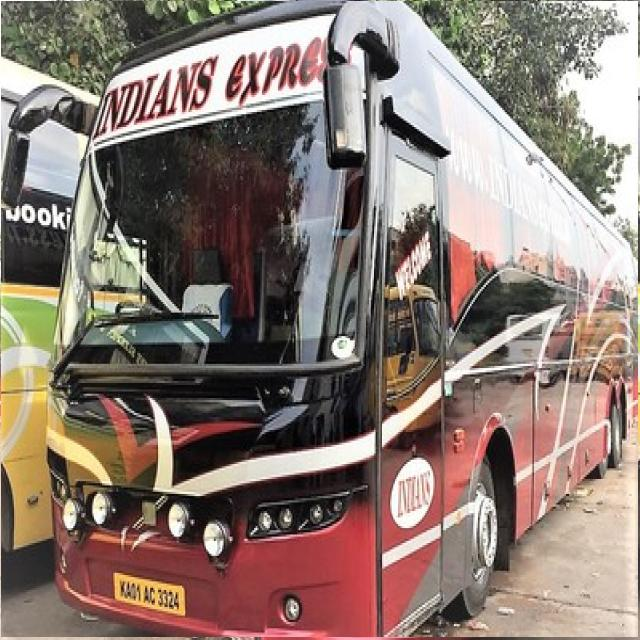bus: (0, 1, 638, 637)
